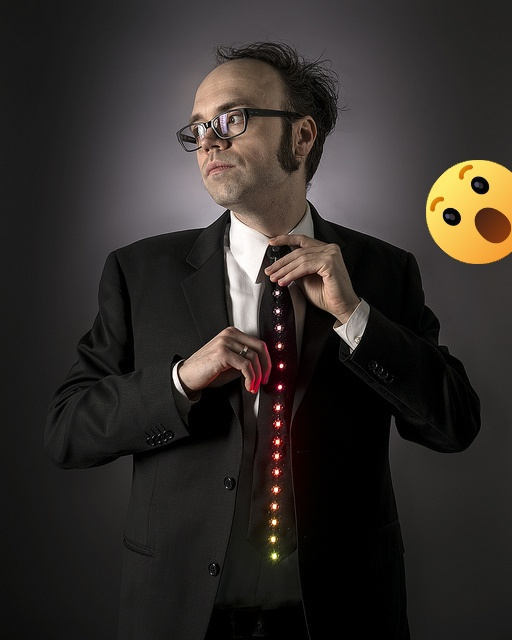wow: (426, 160, 512, 264)
